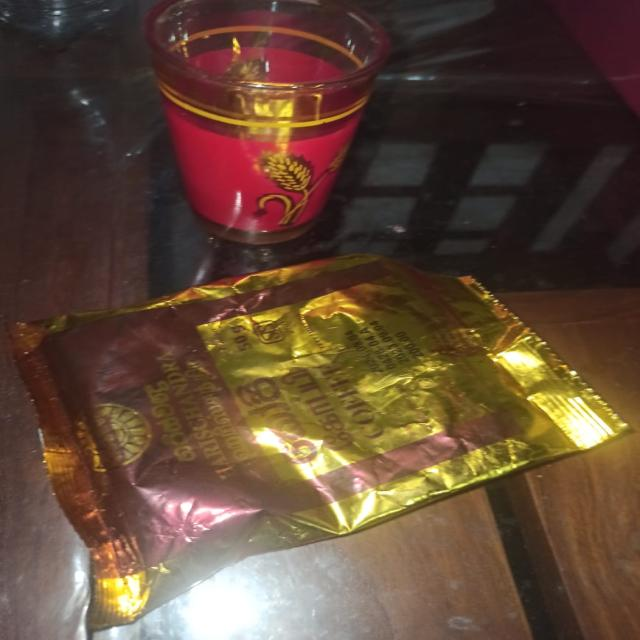Harischandra Coffee: (2, 273, 640, 594)
